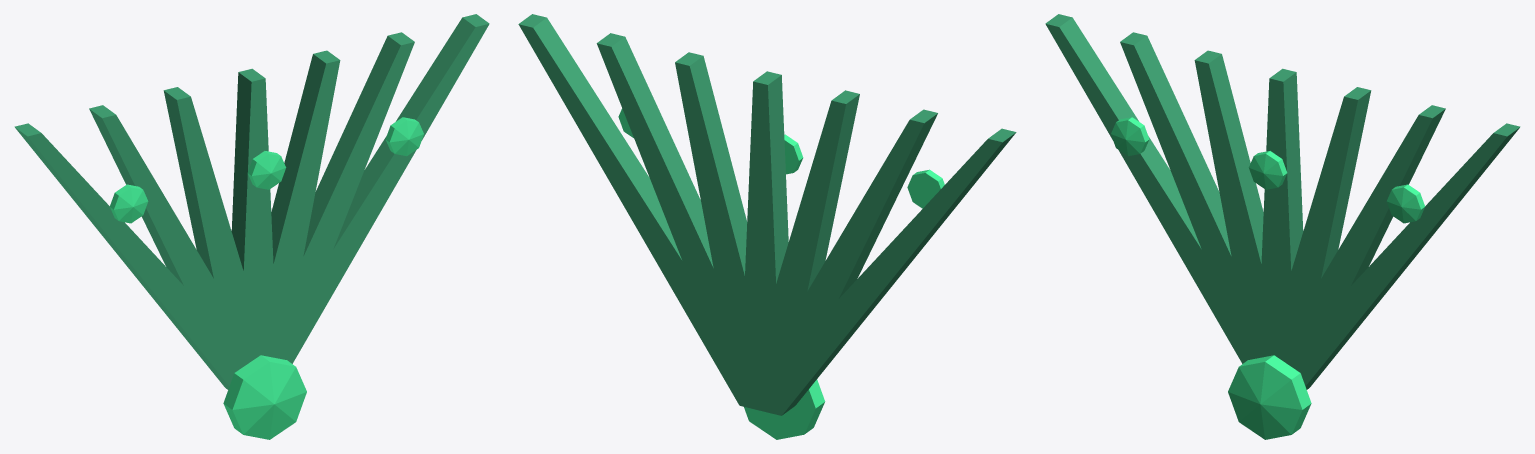
Rendered from jade_seven_ribs.obj.
3 views of the same model, side by side, from view 1: azimuth 30°, elevation 25°; view 2: azimuth 150°, elevation 25°; view 3: azimuth 330°, elevation 25° (orthographic). The views are drawn at different scales.
Visible parts, largest first — view 1: rib_01, rib_05, rib_06, rib_00, rib_04, rib_02, rib_03, fan_hinge, rib_05_edge, rib_06_edge, rib_04_edge, rib_03_edge (+6 smaller); view 2: rib_06, rib_00, rib_05, rib_04, rib_02, rib_03, rib_01, rib_06_edge, rib_05_edge, rib_04_edge, rib_03_edge, rib_02_edge (+5 smaller); view 3: rib_00, rib_01, rib_04, rib_06, rib_02, rib_05, rib_03, fan_hinge, rib_01_edge, rib_00_edge, rib_02_edge, rib_03_edge (+6 smaller).
Part boxes in pixels (x1,y1,x2,y2): rib_01: (102, 115, 258, 381); rib_05: (258, 42, 414, 360); rib_06: (265, 24, 489, 363); rib_00: (27, 133, 251, 385); rib_04: (248, 60, 340, 361); rib_02: (177, 96, 267, 372); rib_03: (240, 78, 276, 368); fan_hinge: (223, 355, 306, 439); rib_05_edge: (303, 32, 414, 255); rib_06_edge: (333, 14, 489, 248); rib_04_edge: (271, 50, 339, 263); rib_03_edge: (231, 68, 265, 270); rib_06: (518, 24, 778, 413); rib_00: (740, 139, 1002, 415); rib_05: (597, 43, 778, 412); rib_04: (675, 62, 780, 412); rib_02: (740, 100, 845, 414); rib_03: (739, 81, 781, 414); rib_01: (740, 120, 923, 415); rib_06_edge: (518, 14, 681, 259); rib_05_edge: (597, 33, 713, 267); rib_04_edge: (675, 52, 747, 275); rib_03_edge: (753, 71, 788, 283); rib_02_edge: (807, 90, 859, 290); rib_00: (1045, 24, 1269, 363); rib_01: (1120, 42, 1277, 360); rib_04: (1268, 96, 1357, 373); rib_06: (1301, 133, 1507, 385); rib_02: (1194, 60, 1287, 363); rib_05: (1289, 115, 1432, 381); rib_03: (1259, 78, 1295, 368); fan_hinge: (1228, 355, 1311, 439); rib_01_edge: (1120, 32, 1231, 255); rib_00_edge: (1045, 14, 1201, 248); rib_02_edge: (1195, 50, 1263, 263); rib_03_edge: (1269, 68, 1303, 270).
Size of the model in its own units: 1.61 by 1.17 by 0.1759.
